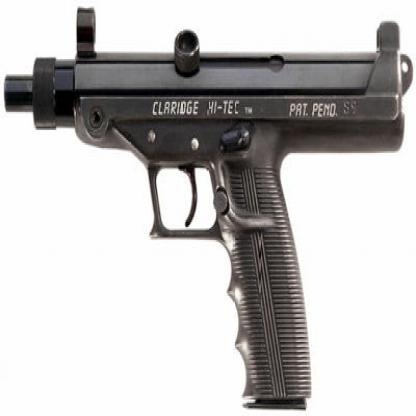Guns: (1, 4, 413, 410)
